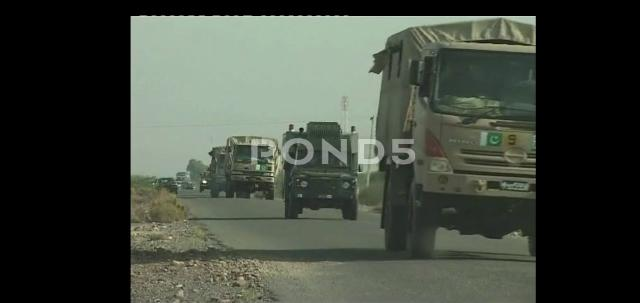plate: (318, 192, 334, 199)
